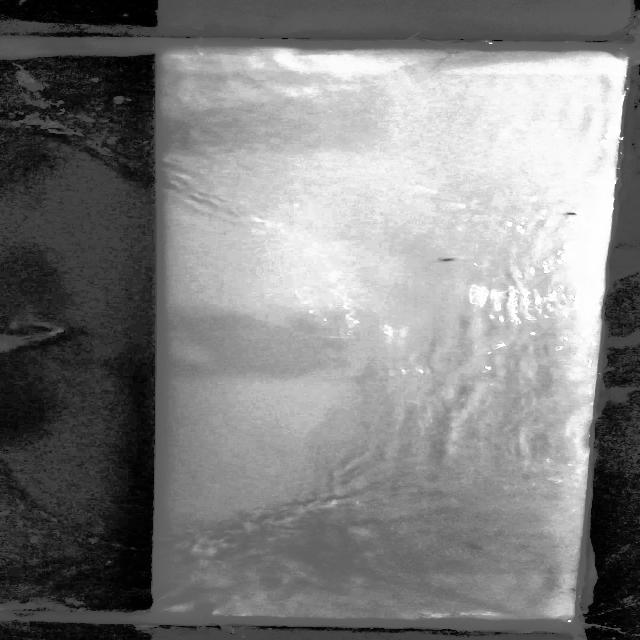shrimp: (465, 543, 498, 553), (434, 255, 462, 262), (562, 210, 586, 218)
